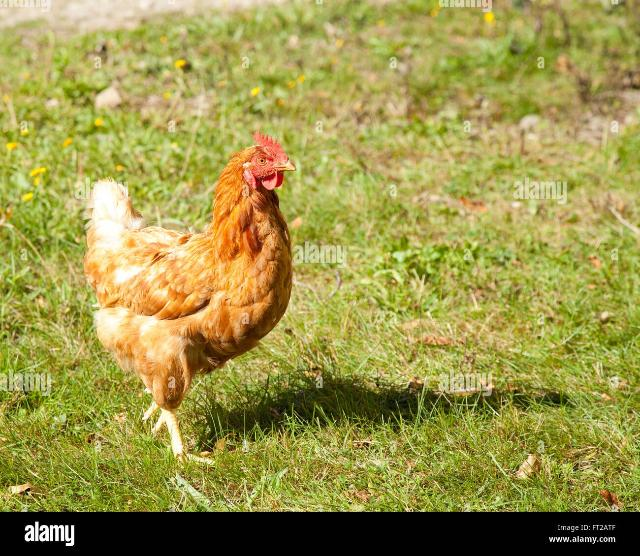Chicken: (87, 131, 294, 459)
